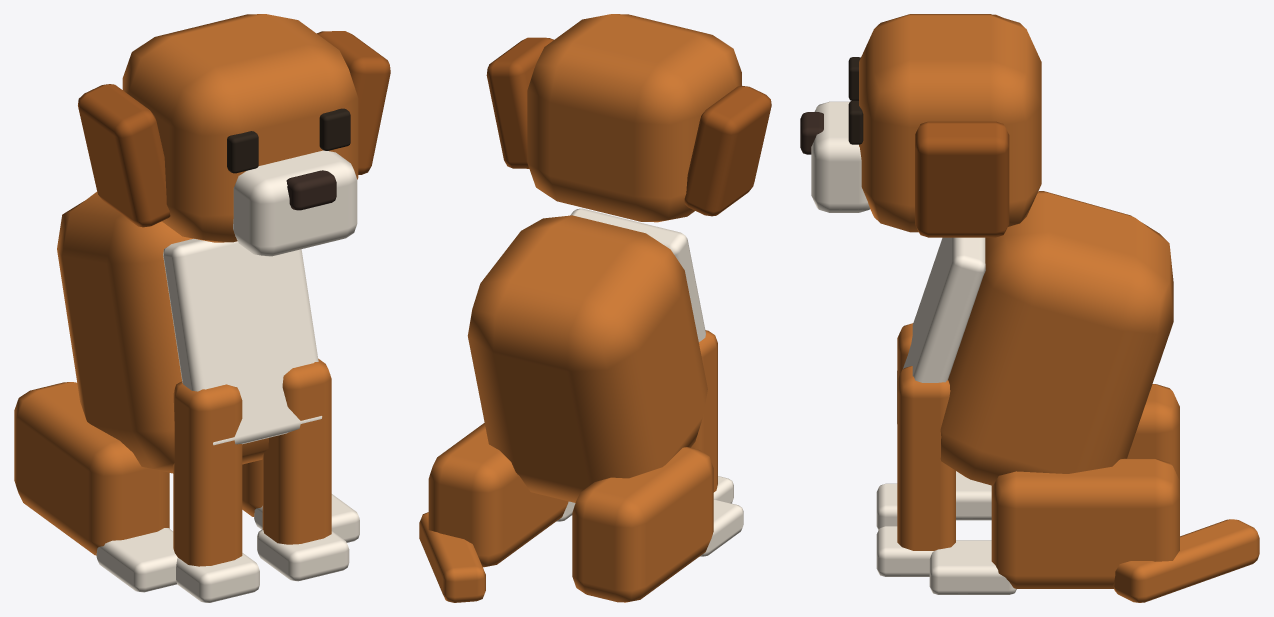
Rendered from base-dog-sitting.glb.
3 views of the same model, side by side, from view 1: azimuth 30°, elevation 25°; view 2: azimuth 150°, elevation 25°; view 3: azimuth 270°, elevation 25° (orthographic). The views are drawn at different scales.
Parts seen in each view (by area): view 1: PM_FUR_MAIN_0_158_30, PM_FUR_MAIN_0_74_-4, PM_FUR_SECONDARY_0_84_33, PM_FUR_MAIN_-30_22_-16, PM_FUR_MAIN_-17_38_38, PM_FUR_MAIN_17_38_38, PM_FUR_SECONDARY_0_145_66, PM_EARS_-41_156_26, PM_EARS_41_156_26, PM_FUR_SECONDARY_-30_6_22, PM_FUR_SECONDARY_17_6_42, PM_FUR_SECONDARY_-17_6_42 (+5 smaller); view 2: PM_FUR_MAIN_0_74_-4, PM_FUR_MAIN_0_158_30, PM_FUR_MAIN_-30_22_-16, PM_FUR_MAIN_30_22_-16, PM_EARS_-41_156_26, PM_EARS_41_156_26, PM_TAIL_30_8_-50, PM_FUR_SECONDARY_0_84_33, PM_FUR_MAIN_-17_38_38, PM_FUR_SECONDARY_-30_6_22; view 3: PM_FUR_MAIN_0_74_-4, PM_FUR_MAIN_0_158_30, PM_FUR_MAIN_30_22_-16, PM_EARS_41_156_26, PM_FUR_MAIN_17_38_38, PM_FUR_SECONDARY_0_84_33, PM_TAIL_30_8_-50, PM_FUR_SECONDARY_0_145_66, PM_FUR_SECONDARY_30_6_22, PM_FUR_MAIN_-30_22_-16, PM_FUR_SECONDARY_17_6_42, PM_FUR_SECONDARY_-30_6_22 (+3 smaller).
Part boxes in pixels (x1,y1,x2,y2): PM_FUR_MAIN_0_158_30: (122,14,358,242); PM_FUR_MAIN_0_74_-4: (57,191,268,473); PM_FUR_SECONDARY_0_84_33: (163,238,322,445); PM_FUR_MAIN_-30_22_-16: (14,382,169,555); PM_FUR_MAIN_-17_38_38: (173,381,242,566); PM_FUR_MAIN_17_38_38: (262,358,331,544); PM_FUR_SECONDARY_0_145_66: (233,150,357,256); PM_EARS_-41_156_26: (78,84,170,227); PM_EARS_41_156_26: (317,31,390,174); PM_FUR_SECONDARY_-30_6_22: (96,528,177,592); PM_FUR_SECONDARY_17_6_42: (257,529,349,581); PM_FUR_SECONDARY_-17_6_42: (176,553,259,602); PM_FUR_MAIN_0_74_-4: (467,215,707,502); PM_FUR_MAIN_0_158_30: (527,14,741,222); PM_FUR_MAIN_-30_22_-16: (572,447,713,602); PM_FUR_MAIN_30_22_-16: (428,423,568,567); PM_EARS_-41_156_26: (684,86,771,216); PM_EARS_41_156_26: (486,37,553,168); PM_TAIL_30_8_-50: (419,512,485,602); PM_FUR_SECONDARY_0_84_33: (570,208,705,341); PM_FUR_MAIN_-17_38_38: (691,330,717,492); PM_FUR_SECONDARY_-30_6_22: (700,499,743,556); PM_FUR_MAIN_0_74_-4: (940,191,1173,485); PM_FUR_MAIN_0_158_30: (859,14,1041,232); PM_FUR_MAIN_30_22_-16: (991,458,1179,588); PM_EARS_41_156_26: (915,121,1009,237); PM_FUR_MAIN_17_38_38: (897,366,955,550); PM_FUR_SECONDARY_0_84_33: (897,237,985,423); PM_TAIL_30_8_-50: (1113,519,1259,602); PM_FUR_SECONDARY_0_145_66: (811,101,869,212); PM_FUR_SECONDARY_30_6_22: (929,540,1016,594); PM_FUR_MAIN_-30_22_-16: (1127,384,1179,480); PM_FUR_SECONDARY_17_6_42: (876,526,933,576); PM_FUR_SECONDARY_-30_6_22: (956,471,991,520).
Bounding box in the file's own units: 0.105 × 0.19 × 0.1558.
